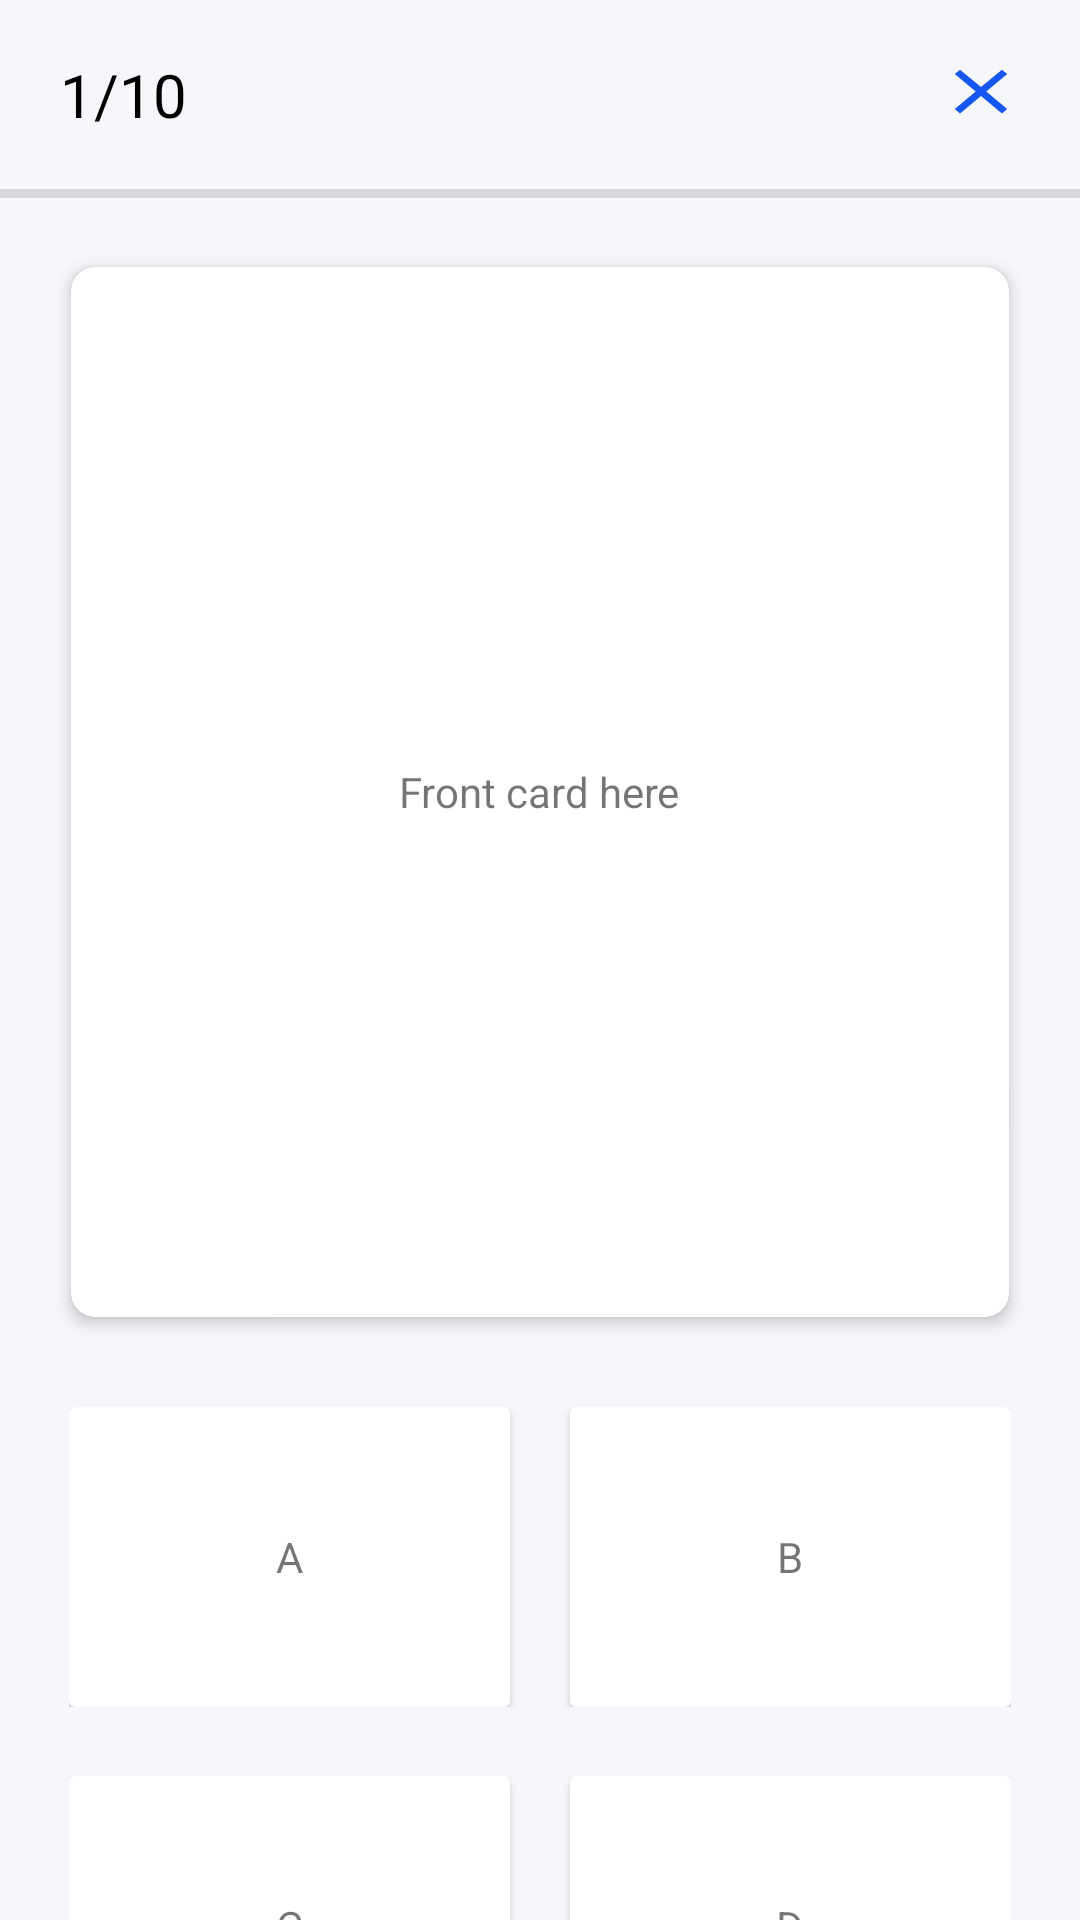

Named icons in this screenshot (1080 x 1920) and their centers, point (x, y):
close: point (981, 92)
